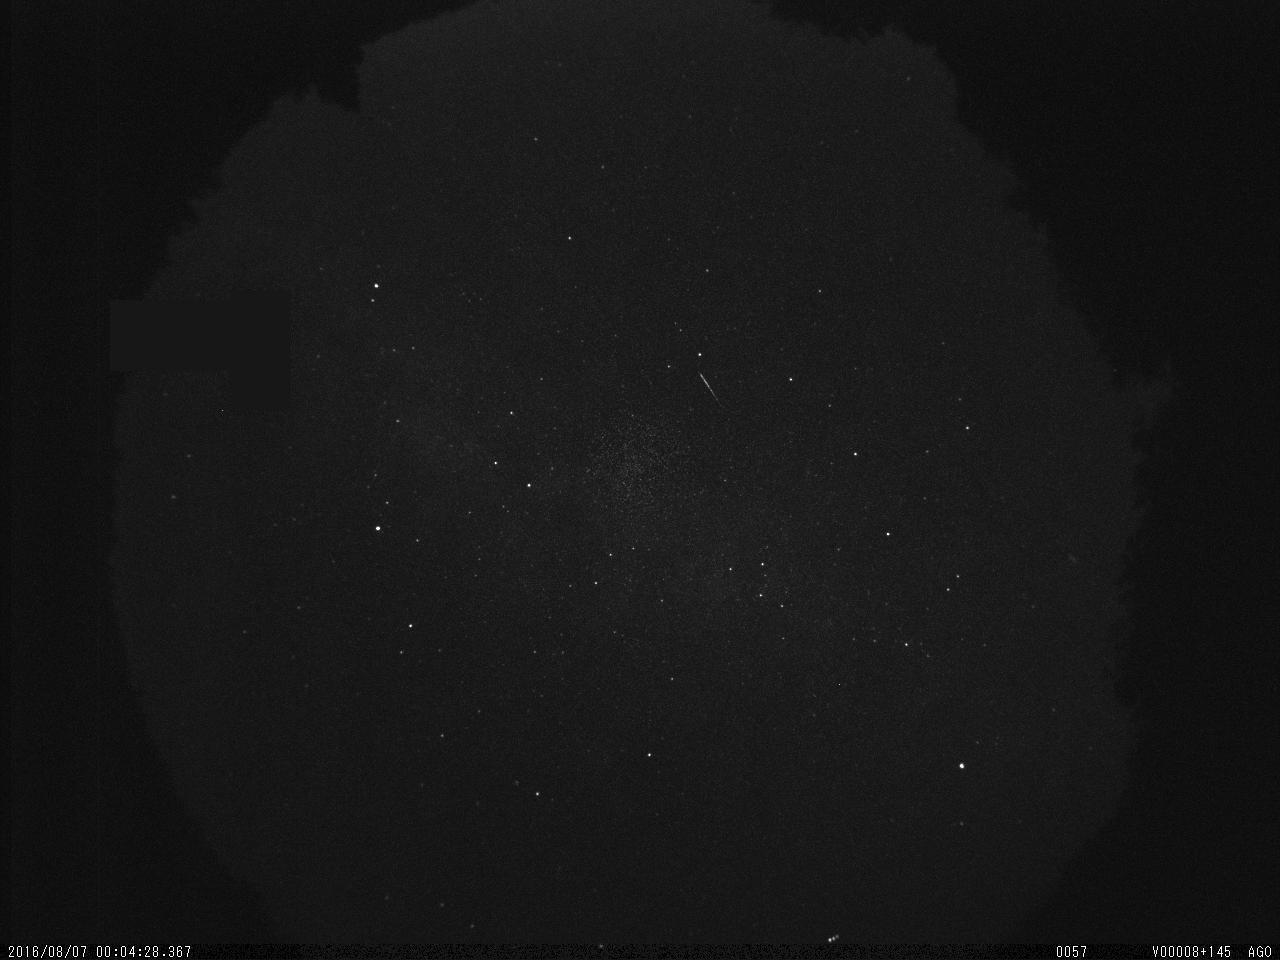meteor: (690, 366, 725, 412)
